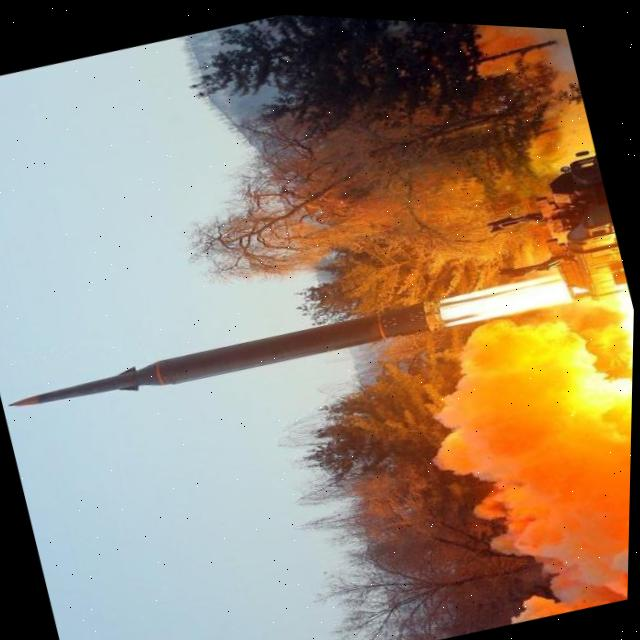missile: (4, 265, 450, 443)
